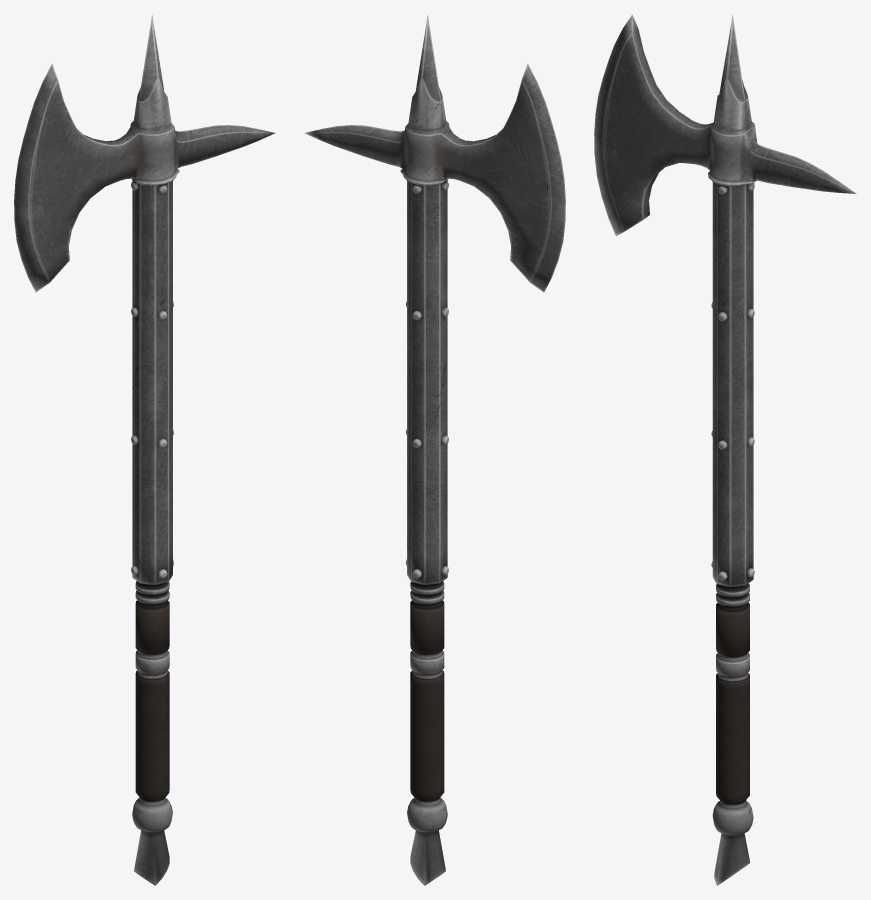
Rendered from SM_Axe_08.fbx.
The picture shows the model from 3 angles, left to right: view 1: azimuth 30°, elevation 25°; view 2: azimuth 150°, elevation 25°; view 3: azimuth 330°, elevation 25°; orthographic projection.
Visible parts, largest first — view 1: SM_Axe_08_LOD0; view 2: SM_Axe_08_LOD0; view 3: SM_Axe_08_LOD0.
Part boxes in pixels (x1,y1,x2,y2): SM_Axe_08_LOD0: (14, 14, 275, 885); SM_Axe_08_LOD0: (304, 14, 565, 885); SM_Axe_08_LOD0: (594, 14, 856, 885).
Bounding box in the file's own units: 32.54 × 5.39 × 103.
1 material, 1 textured.
